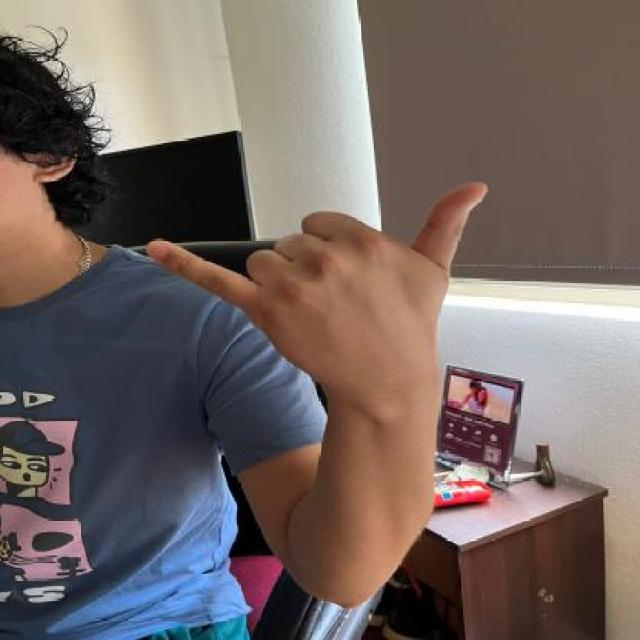Y: (147, 176, 496, 367)
